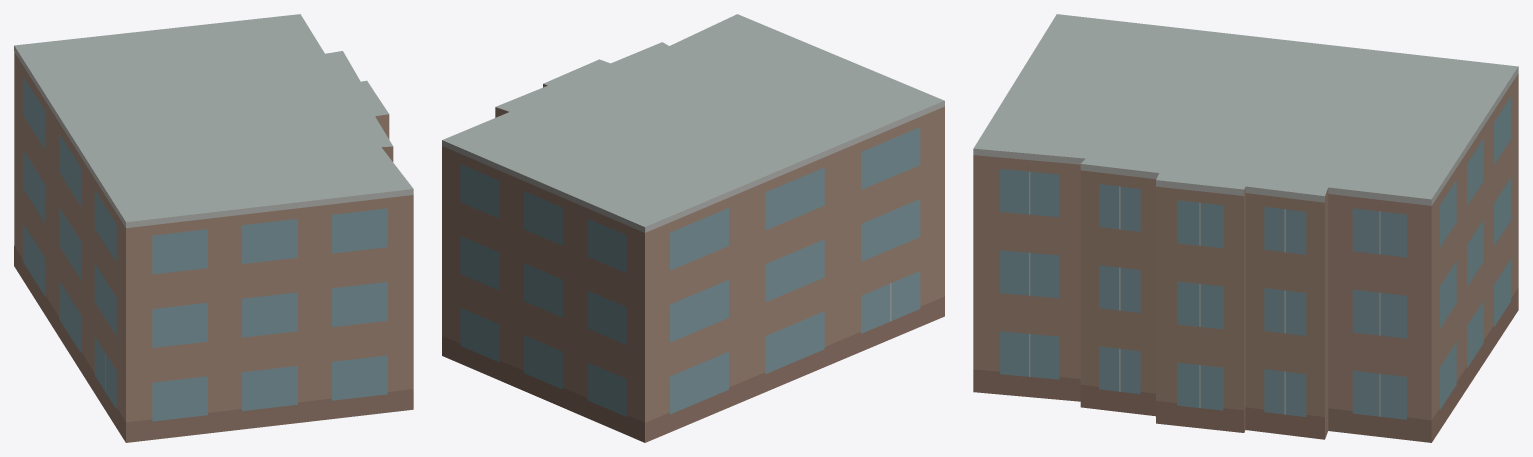
File: survey-upis-32823357.glb
3 views of the same model, side by side, from view 1: azimuth 30°, elevation 25°; view 2: azimuth 150°, elevation 25°; view 3: azimuth 270°, elevation 25° (orthographic). The views are drawn at different scales.
Parts seen in each view (by area): view 1: survey-upis-32823357.tmp; view 2: survey-upis-32823357.tmp; view 3: survey-upis-32823357.tmp.
Part boxes in pixels (x1,y1,x2,y2): survey-upis-32823357.tmp: [14, 14, 413, 442]; survey-upis-32823357.tmp: [442, 14, 944, 442]; survey-upis-32823357.tmp: [973, 14, 1518, 442].
Size of the model in its own units: 14.95 by 9.15 by 18.58.
